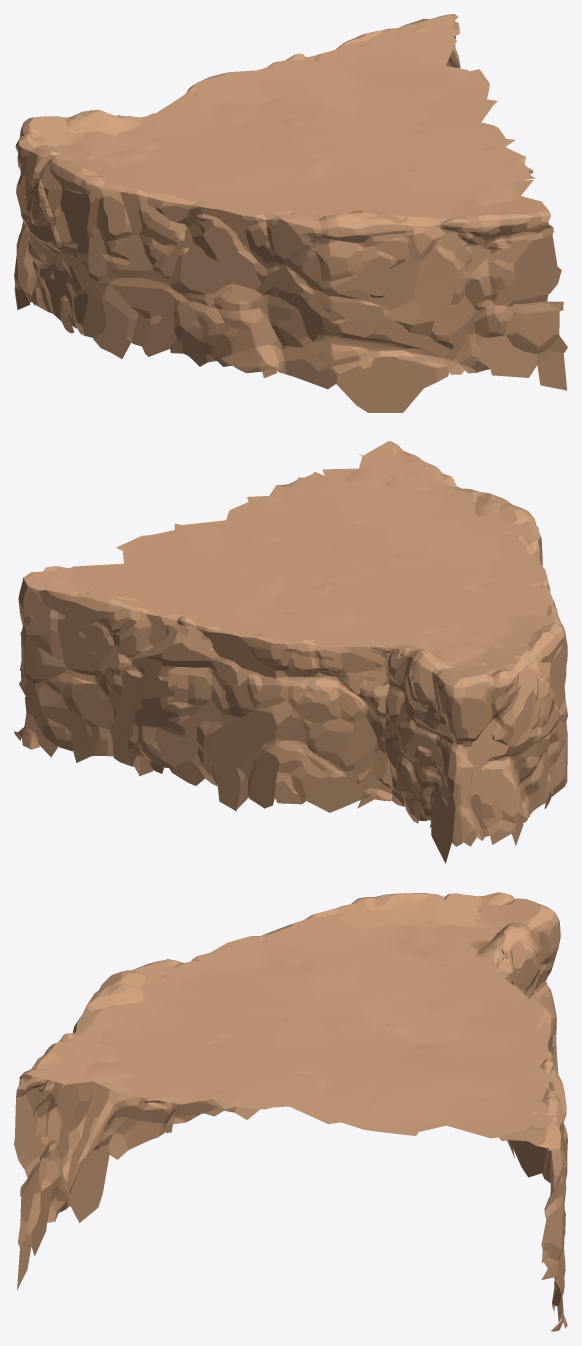
The model's file is SandstoneBig_Mesh_2_005LODs.fbx.
The picture shows the model from 3 angles, top to bottom: view 1: azimuth 30°, elevation 25°; view 2: azimuth 150°, elevation 25°; view 3: azimuth 270°, elevation 25°; orthographic projection. The views are drawn at different scales.
Parts seen in each view (by area): view 1: Mesh_2.005_LOD0; view 2: Mesh_2.005_LOD0; view 3: Mesh_2.005_LOD0.
Part boxes in pixels (bbox=[...]): Mesh_2.005_LOD0: bbox=[14, 14, 567, 412]; Mesh_2.005_LOD0: bbox=[14, 441, 567, 863]; Mesh_2.005_LOD0: bbox=[14, 892, 567, 1331].
Size of what is drawn, in the model's own units: 11199 by 4408 by 9746.
